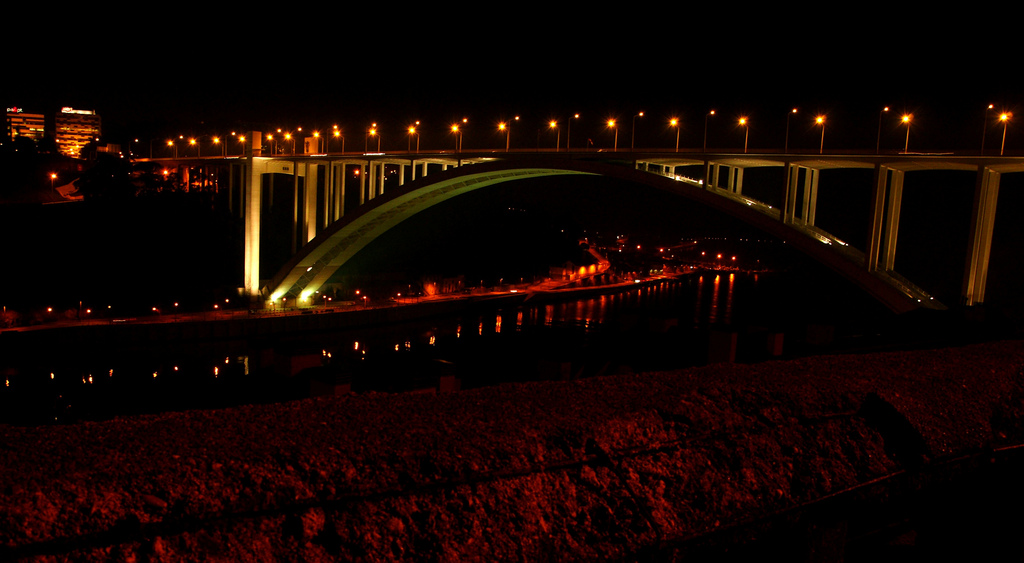arrabida: (131, 128, 1023, 313)
